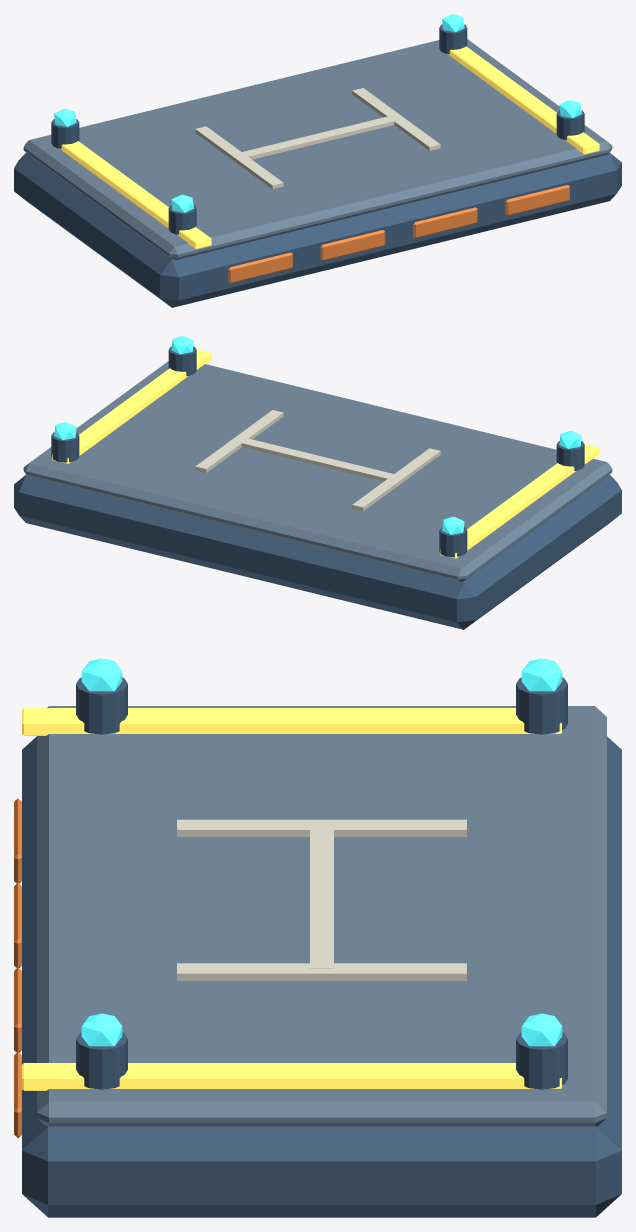
File: landing_pad.glb
The picture shows the model from 3 angles, top to bottom: view 1: azimuth 30°, elevation 25°; view 2: azimuth 150°, elevation 25°; view 3: azimuth 270°, elevation 25°; orthographic projection. The views are drawn at different scales.
Parts seen in each view (by area): view 1: Raised platform, Foundation, Safety edge.001, Safety edge, Landing H crossbar, Landing H, Landing H.001, Front panel.001, Front panel, Front panel.002, Front panel.003, Beacon footing.001 (+3 smaller); view 2: Raised platform, Foundation, Safety edge.001, Safety edge, Landing H crossbar, Landing H, Landing H.001, Beacon footing.003, Beacon footing.001, Beacon footing, Beacon footing.002; view 3: Raised platform, Foundation, Safety edge, Safety edge.001, Landing H.001, Landing H, Landing H crossbar, Beacon footing.001, Beacon footing.003, Beacon footing, Beacon footing.002, Landing beacon (+3 smaller).
Part boxes in pixels (box(x1,y1,x2,y2)): Raised platform: box(23, 39, 612, 260); Foundation: box(14, 152, 621, 307); Safety edge.001: box(447, 46, 599, 154); Safety edge: box(60, 141, 211, 249); Landing H crossbar: box(236, 115, 399, 159); Landing H: box(195, 126, 283, 189); Landing H.001: box(352, 88, 440, 150); Front panel.001: box(320, 230, 385, 260); Front panel: box(228, 252, 292, 283); Front panel.002: box(413, 207, 477, 238); Front panel.003: box(505, 185, 569, 215); Beacon footing.001: box(51, 119, 79, 148); Raised platform: box(23, 361, 612, 582); Foundation: box(14, 474, 621, 629); Safety edge.001: box(52, 349, 211, 463); Safety edge: box(440, 444, 599, 558); Landing H crossbar: box(236, 437, 399, 481); Landing H: box(352, 448, 440, 511); Landing H.001: box(195, 410, 283, 472); Beacon footing.003: box(51, 432, 79, 462); Beacon footing.001: box(439, 527, 467, 557); Beacon footing: box(556, 441, 584, 470); Beacon footing.002: box(168, 346, 196, 376); Raised platform: box(37, 706, 606, 1126); Foundation: box(22, 736, 621, 1217); Safety edge: box(22, 708, 561, 735); Safety edge.001: box(22, 1063, 561, 1090); Landing H.001: box(177, 963, 466, 980); Landing H: box(177, 819, 466, 836); Landing H crossbar: box(310, 824, 333, 968); Beacon footing.001: box(516, 677, 567, 734); Beacon footing.003: box(516, 1032, 567, 1089); Beacon footing: box(76, 677, 127, 734); Beacon footing.002: box(76, 1032, 127, 1089); Landing beacon: box(81, 658, 122, 691).
Size of the model in its own units: 5 by 1 by 3.04.
